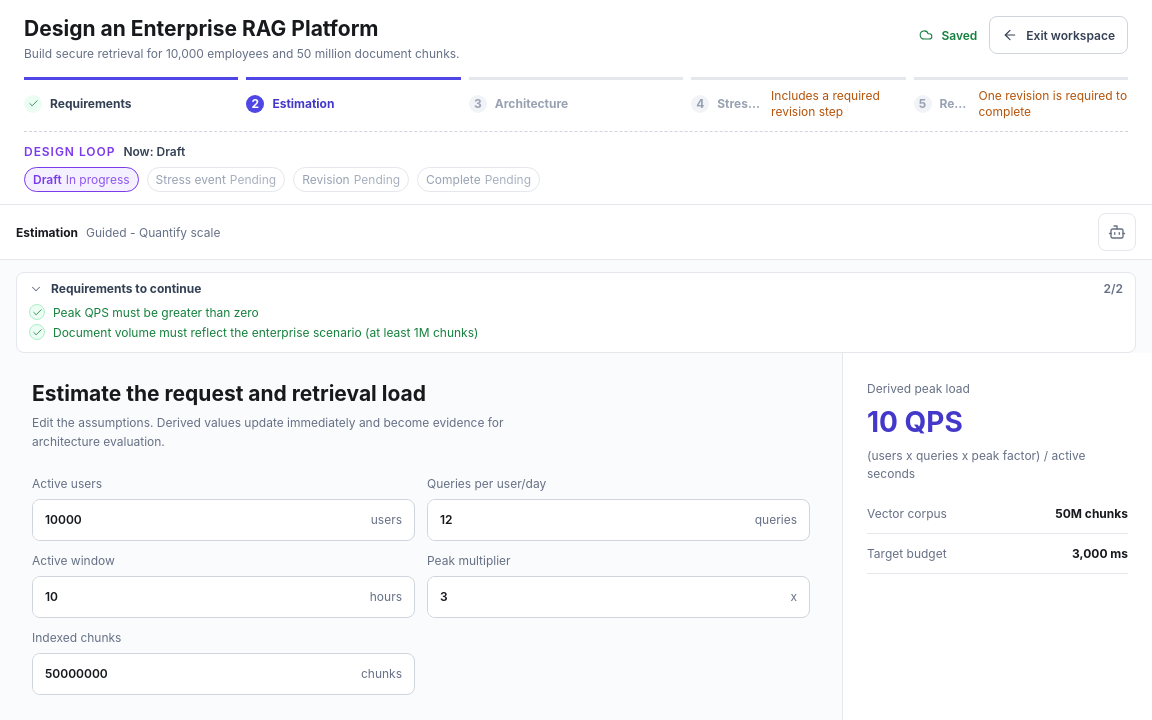
it: MissionWorkspace estimation input guarding › never renders NaN QPS when an input is cleared
Clear the number field labelled "Active users users" at (196, 520), box left=33, top=500, right=359, bottom=540
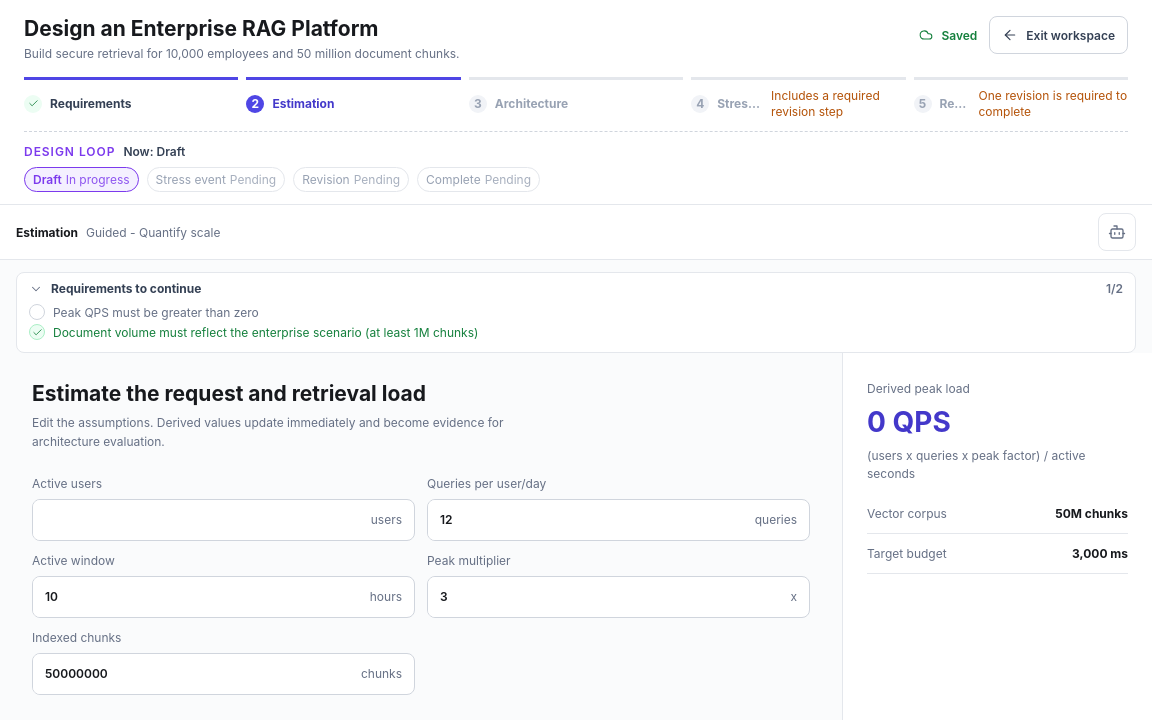
Check: the text "0 QPS" is shown, box left=867, top=405, right=951, bottom=439
